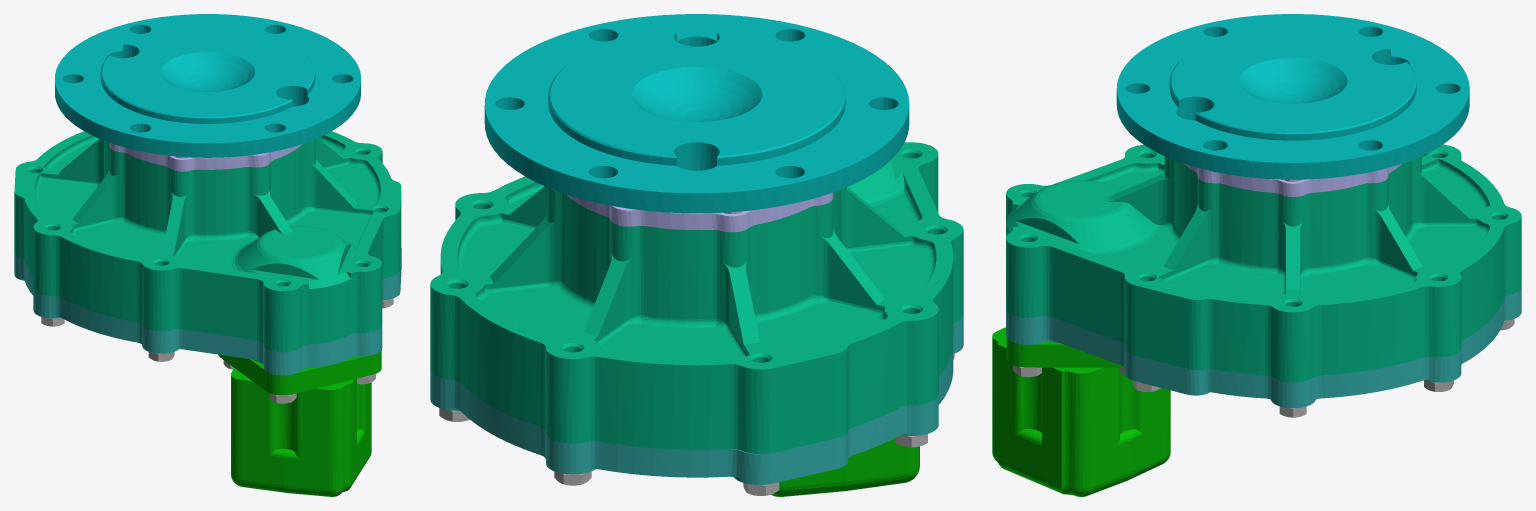
3 views of the same model, side by side, from view 1: azimuth 30°, elevation 25°; view 2: azimuth 150°, elevation 25°; view 3: azimuth 270°, elevation 25° (orthographic). The views are drawn at different scales.
Bounding box in the file's own units: 324 × 300 × 375.
